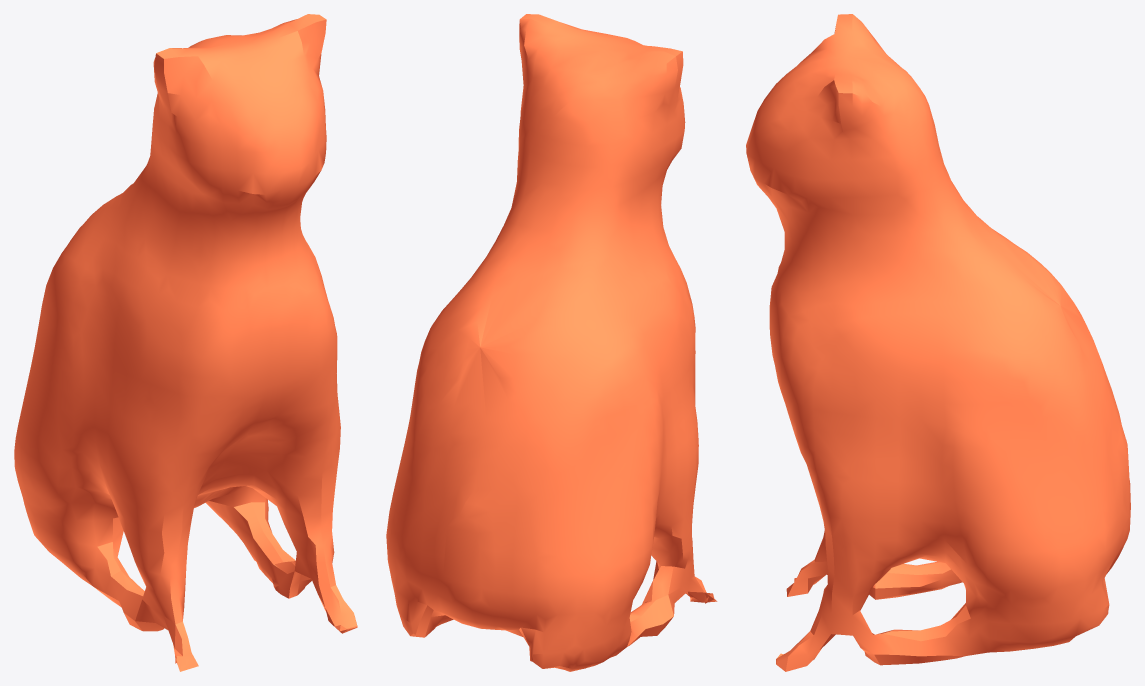
The model's file is CATlowp.glb.
3 renders of one model, left to right at view 1: azimuth 30°, elevation 25°; view 2: azimuth 150°, elevation 25°; view 3: azimuth 270°, elevation 25°, orthographic. The views are drawn at different scales.
Visible parts, largest first — view 1: Sphere; view 2: Sphere; view 3: Sphere.
Part boxes in pixels (x1,y1,x2,y2): Sphere: (14,14,357,671); Sphere: (386,14,717,671); Sphere: (746,14,1130,671).
Bounding box in the file's own units: 1.43 × 3.19 × 1.91.
